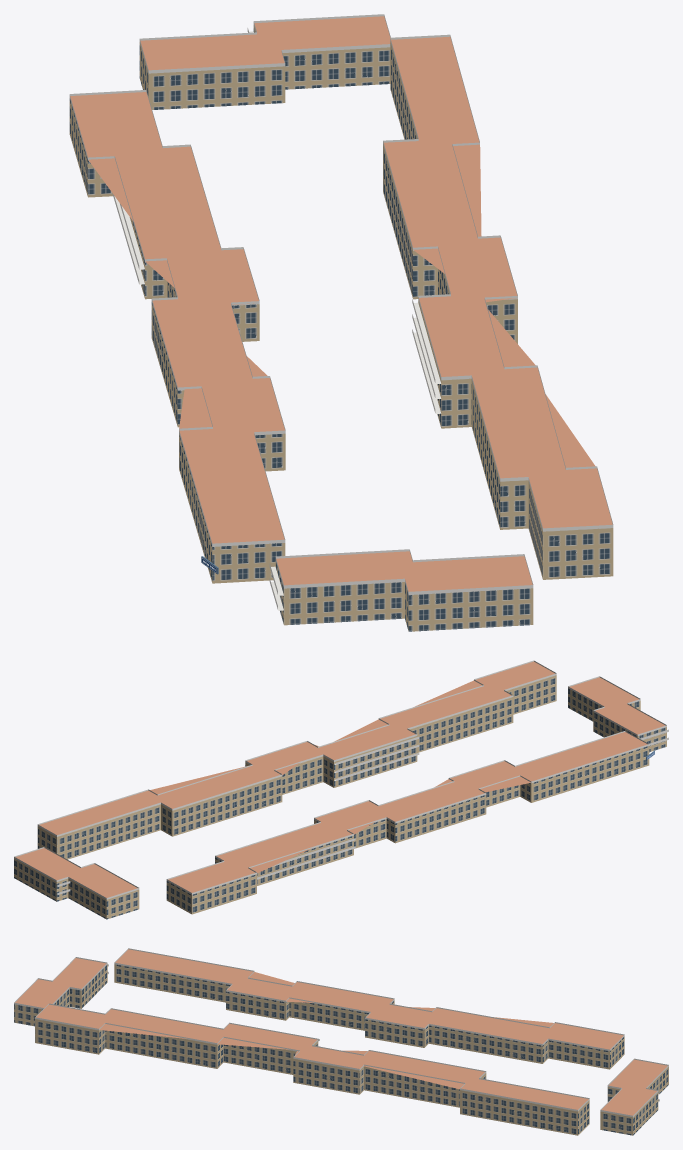
The model's file is eagleres.glb.
The picture shows the model from 3 angles, top to bottom: view 1: azimuth 30°, elevation 25°; view 2: azimuth 150°, elevation 25°; view 3: azimuth 270°, elevation 25°; orthographic projection. The views are drawn at different scales.
Parts seen in each view (by area): view 1: eagleres_lod0; view 2: eagleres_lod0; view 3: eagleres_lod0.
Boxes of the visible parts, left/top/right/bottom form: eagleres_lod0: left=69, top=14, right=613, bottom=631; eagleres_lod0: left=14, top=660, right=668, bottom=919; eagleres_lod0: left=14, top=948, right=668, bottom=1135.
Size of what is drawn, in the model's own units: 155 by 12.9 by 255.
5 materials, 2 textured.
